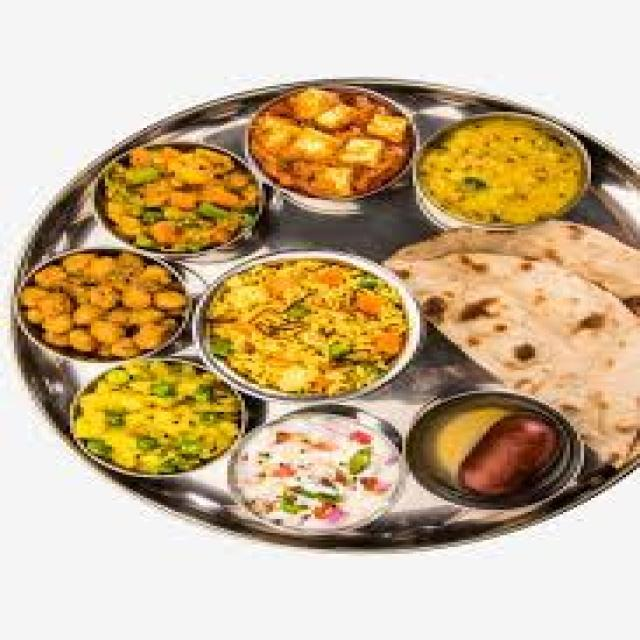dal: (413, 116, 597, 225)
raita: (228, 413, 408, 538)
rice: (203, 253, 415, 401)
roti: (417, 234, 623, 406)
sweet: (409, 397, 579, 502)
veg-fry: (239, 81, 423, 206), (87, 140, 272, 256)
